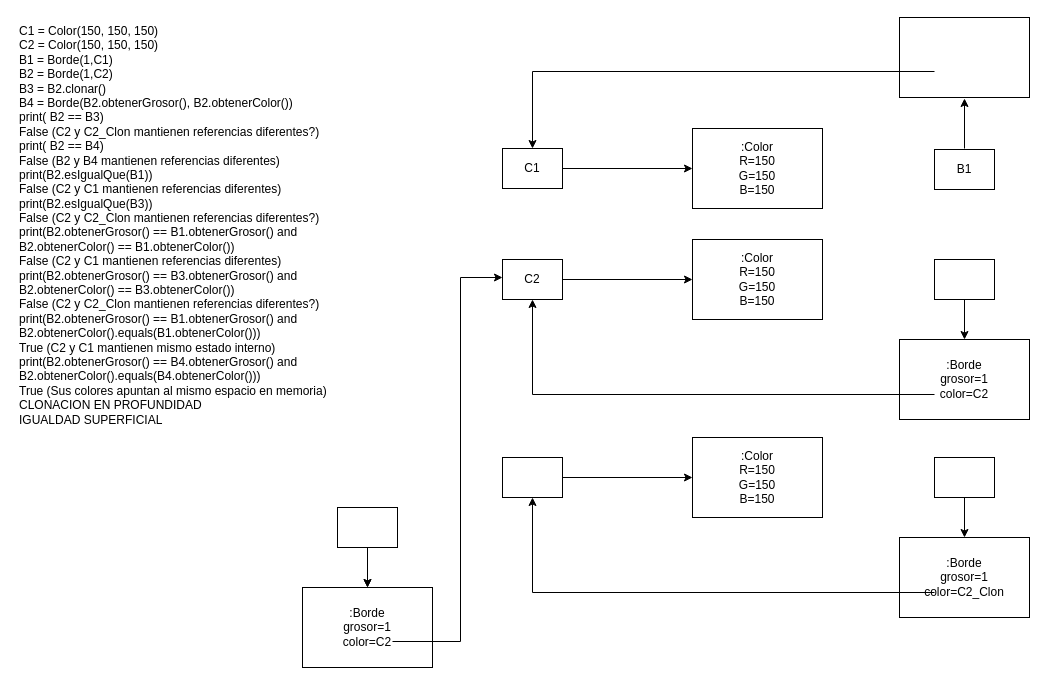
Image size: 1047x685. Some labels were removed from this diagram. Each missing label, with the centre of its shape:
":Borde grosor=1 color=C1" belongs at (x=964, y=57).
"B2" belongs at (x=964, y=279).
"B3" belongs at (x=964, y=477).
"B4" belongs at (x=367, y=527).
"C2_Clon" belongs at (x=532, y=477).
